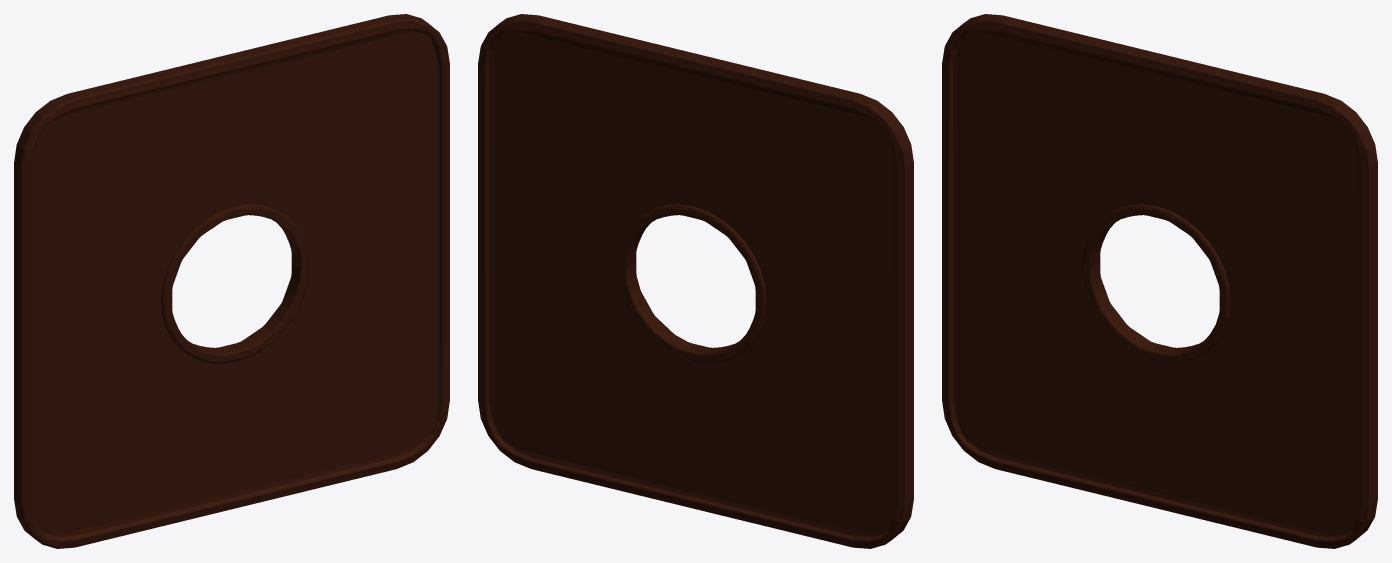
File: token2.gltf
The picture shows the model from 3 angles, left to right: view 1: azimuth 30°, elevation 25°; view 2: azimuth 150°, elevation 25°; view 3: azimuth 330°, elevation 25°; orthographic projection.
Visible parts, largest first — view 1: Cylinder.001; view 2: Cylinder.001; view 3: Cylinder.001.
Boxes of the visible parts, bbox=[...] form: Cylinder.001: bbox=[14, 14, 449, 548]; Cylinder.001: bbox=[478, 14, 913, 548]; Cylinder.001: bbox=[942, 14, 1377, 548].
Bounding box in the file's own units: 2 × 2 × 0.0809.
